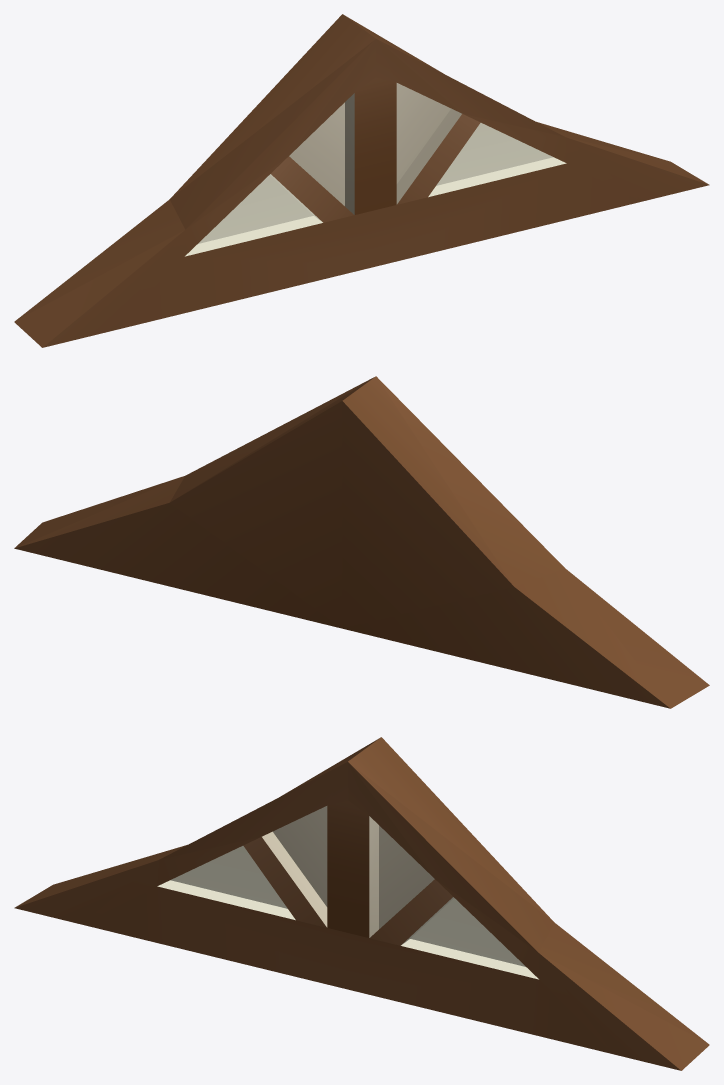
Rendered from House_4x5_Gable.fbx.
The picture shows the model from 3 angles, top to bottom: view 1: azimuth 30°, elevation 25°; view 2: azimuth 150°, elevation 25°; view 3: azimuth 330°, elevation 25°; orthographic projection.
Visible parts, largest first — view 1: House_4x5_Gable; view 2: House_4x5_Gable; view 3: House_4x5_Gable.
Part boxes in pixels (x1=…): House_4x5_Gable: x1=14, y1=14, x2=709, y2=347; House_4x5_Gable: x1=14, y1=376, x2=709, y2=708; House_4x5_Gable: x1=14, y1=737, x2=709, y2=1070.
Bounding box in the file's own units: 4.28 × 1.4 × 0.3798.
1 material, 1 textured.
